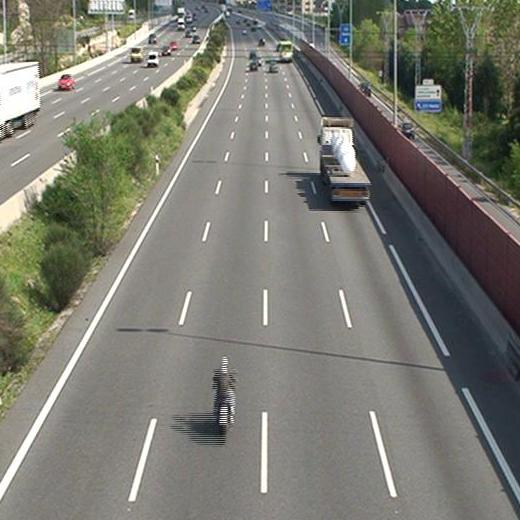bus: (279, 41, 294, 61)
car: (269, 61, 280, 73), (247, 59, 257, 71)
motorcycle: (212, 356, 238, 435)
truck: (318, 116, 371, 204)
